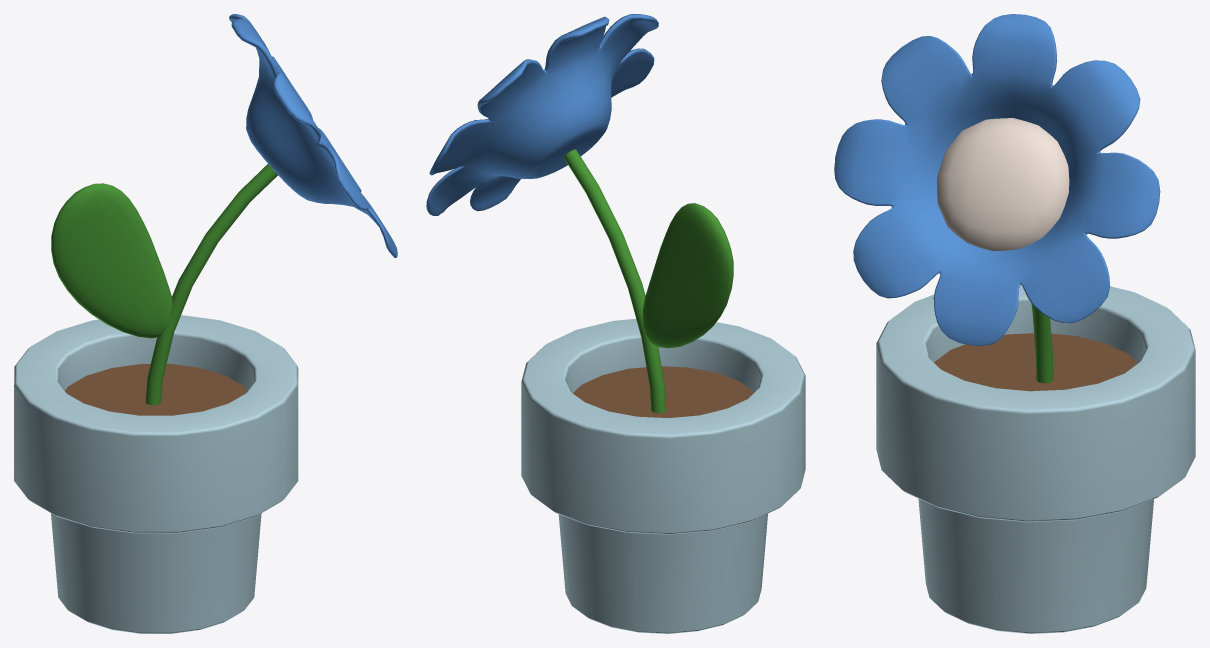
Rendered from Flower_9.glb.
3 renders of one model, left to right at view 1: azimuth 30°, elevation 25°; view 2: azimuth 150°, elevation 25°; view 3: azimuth 270°, elevation 25°, orthographic. The views are drawn at different scales.
Visible parts, largest first — view 1: Flower_8; view 2: Flower_8; view 3: Flower_8.
Part boxes in pixels (left/top/right/bottom): Flower_8: left=14, top=14, right=397, bottom=633; Flower_8: left=426, top=14, right=805, bottom=633; Flower_8: left=834, top=14, right=1195, bottom=633.
Bounding box in the file's own units: 0.4021 × 0.6298 × 0.3353.
Materials: 1 (1 with a texture image).
